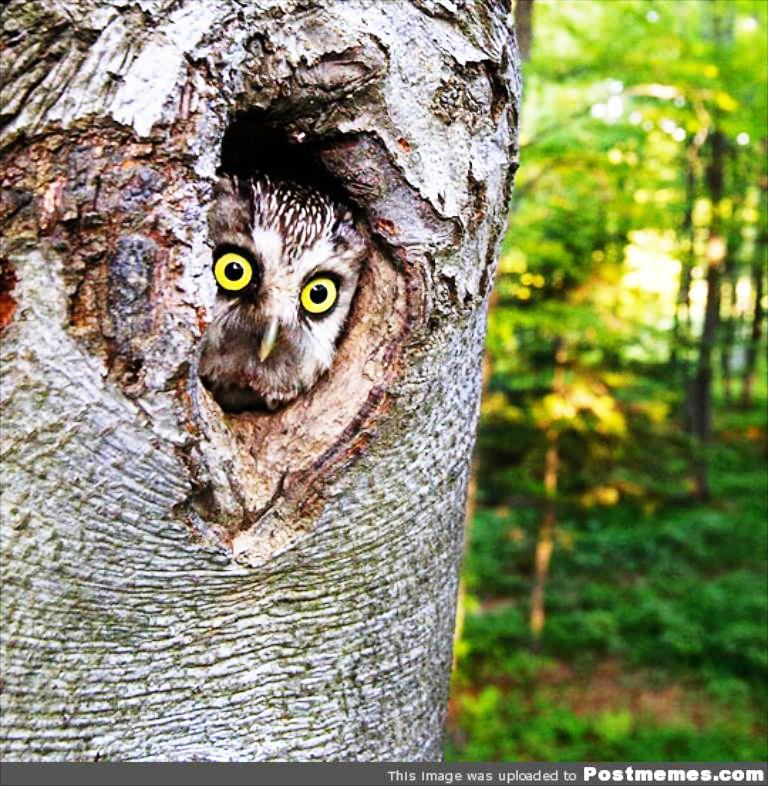Owl: (202, 167, 380, 420)
